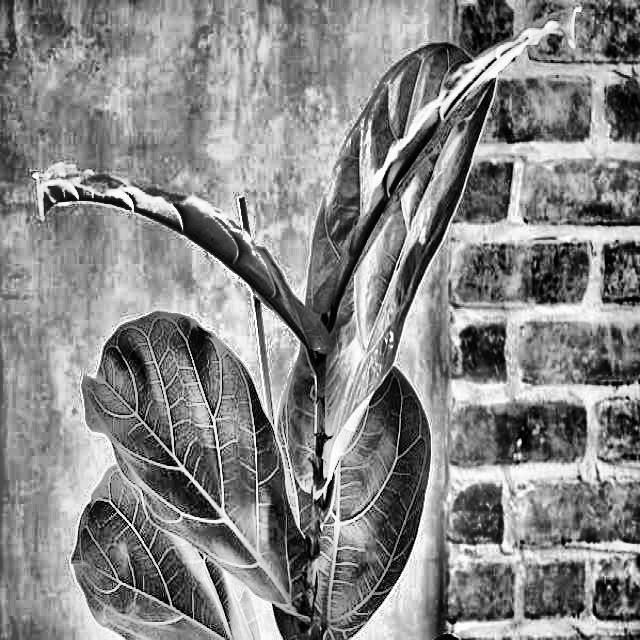plants: (36, 21, 584, 638), (320, 24, 582, 388), (35, 162, 310, 354)
